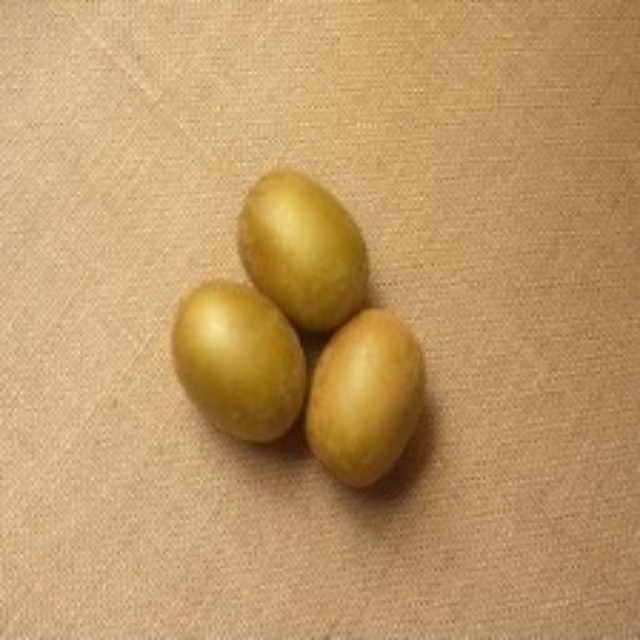kiwi: (233, 169, 390, 330), (164, 286, 315, 438), (302, 312, 431, 487)
